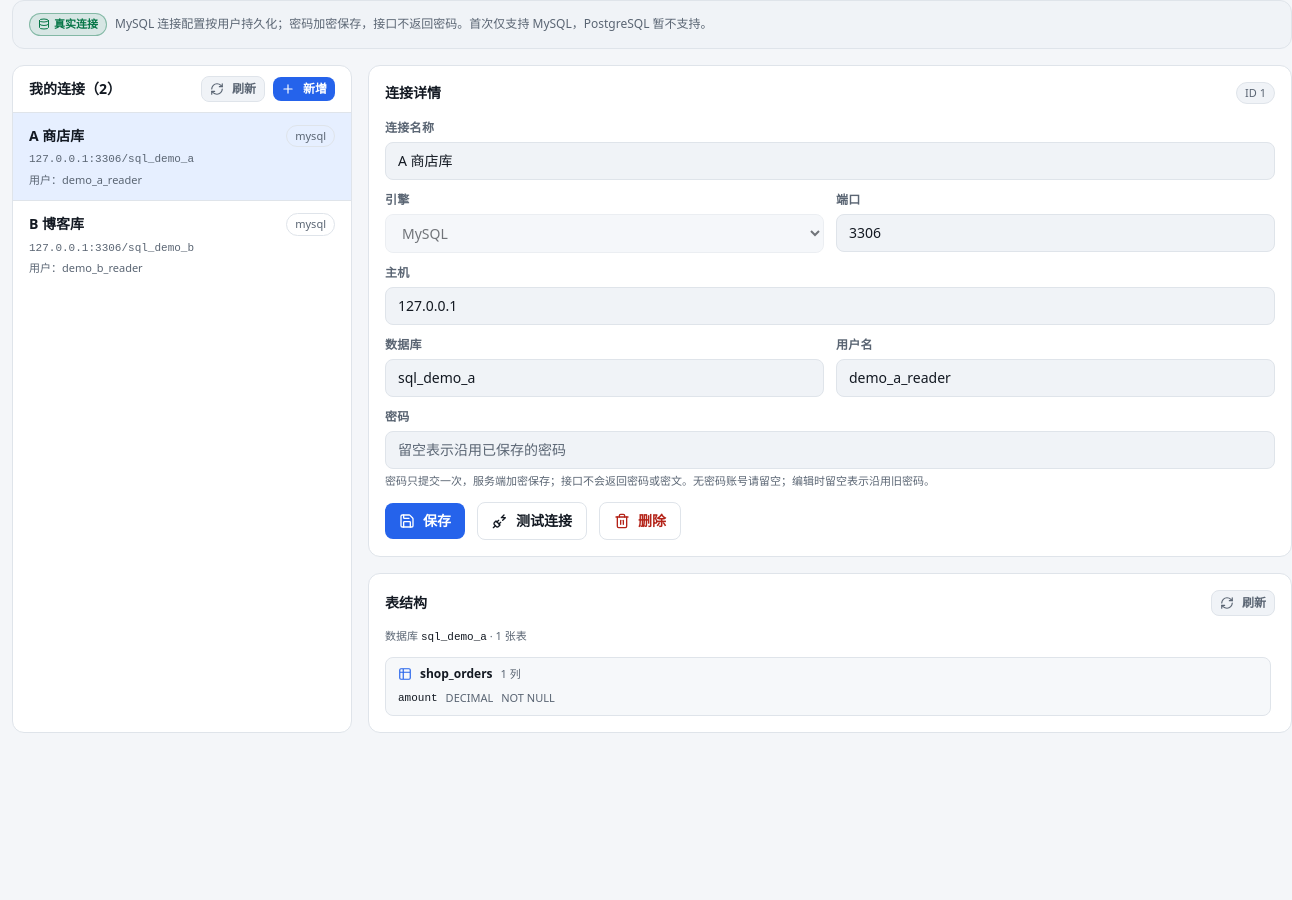
Test: DatabasePage 真实连接管理 › 选择连接时表单与真实表结构同步切换
The image size is (1292, 900).
Check: the button "A 商店库 mysql 127.0.0.1:3306/sql_demo_a 用户：demo_a_reader" is shown, box [13,112,351,200]
Check: the field labelled "连接名称" holds "A 商店库", box [385,142,1275,180]
Click the button "B 博客库 mysql 127.0.0.1:3306/sql_demo_b 用户：demo_b_reader" at (182, 245), box [13,201,351,288]
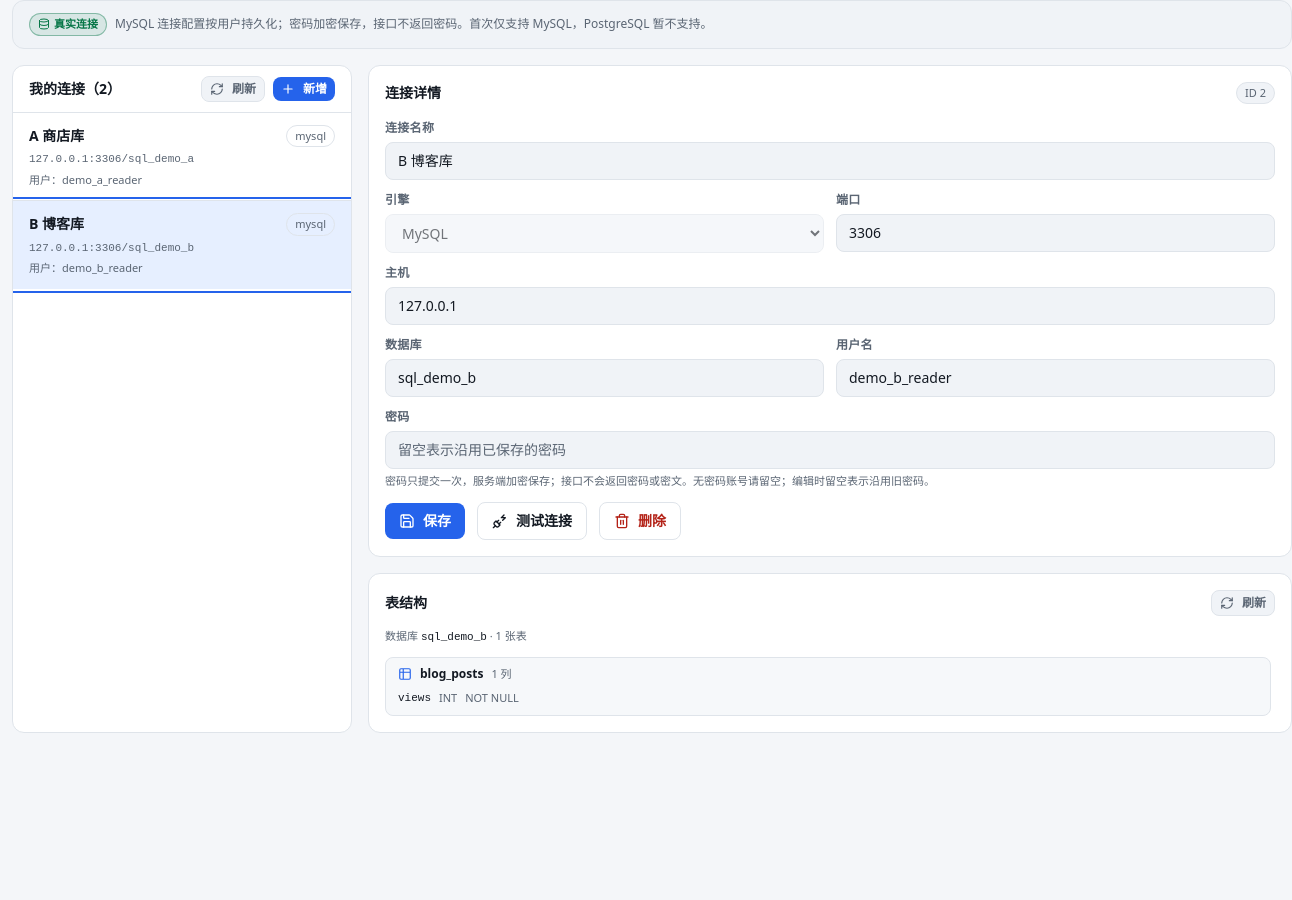
Check: the field labelled "连接名称" holds "B 博客库", box [385,142,1275,180]
Check: the heading "blog_posts 1 列" is shown, box [398,665,512,682]
Check: the heading "shop_orders" is gone
